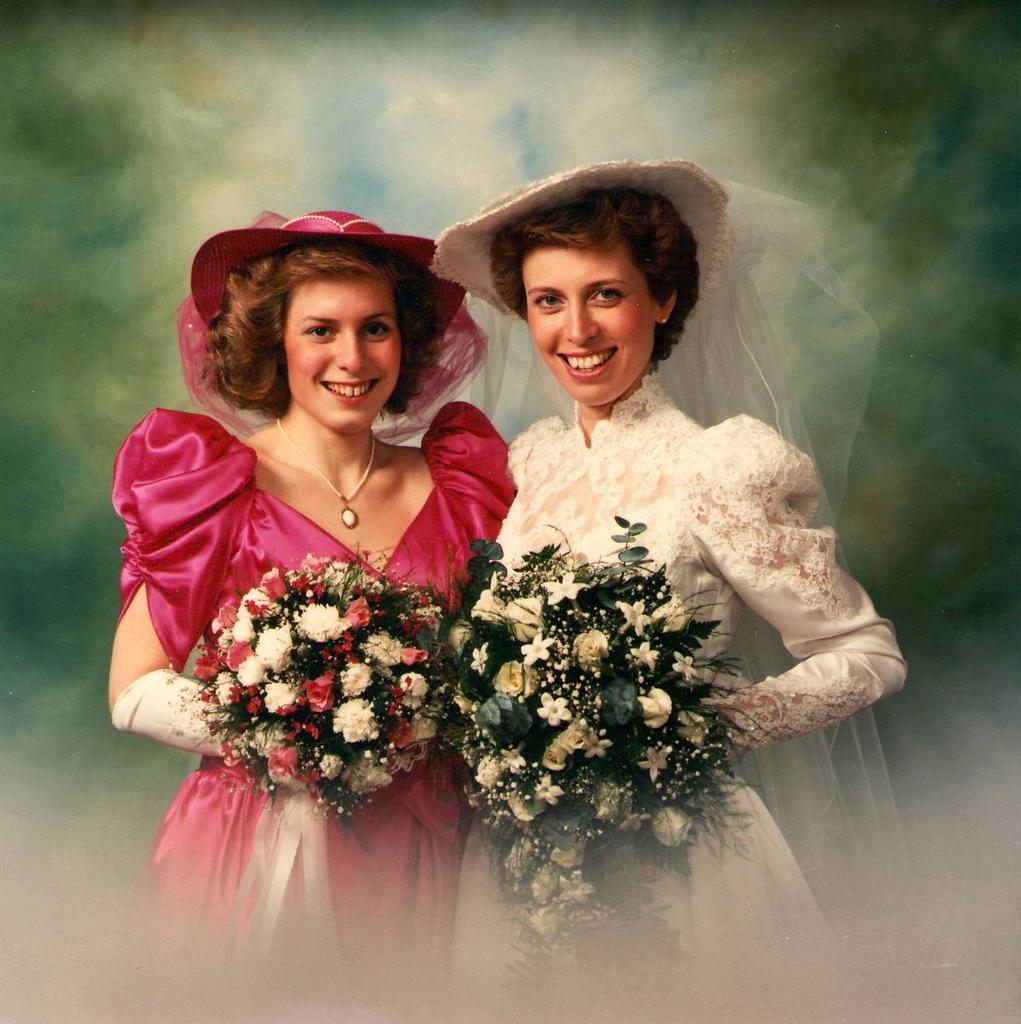Hat: (432, 152, 730, 313), (188, 204, 460, 324)
